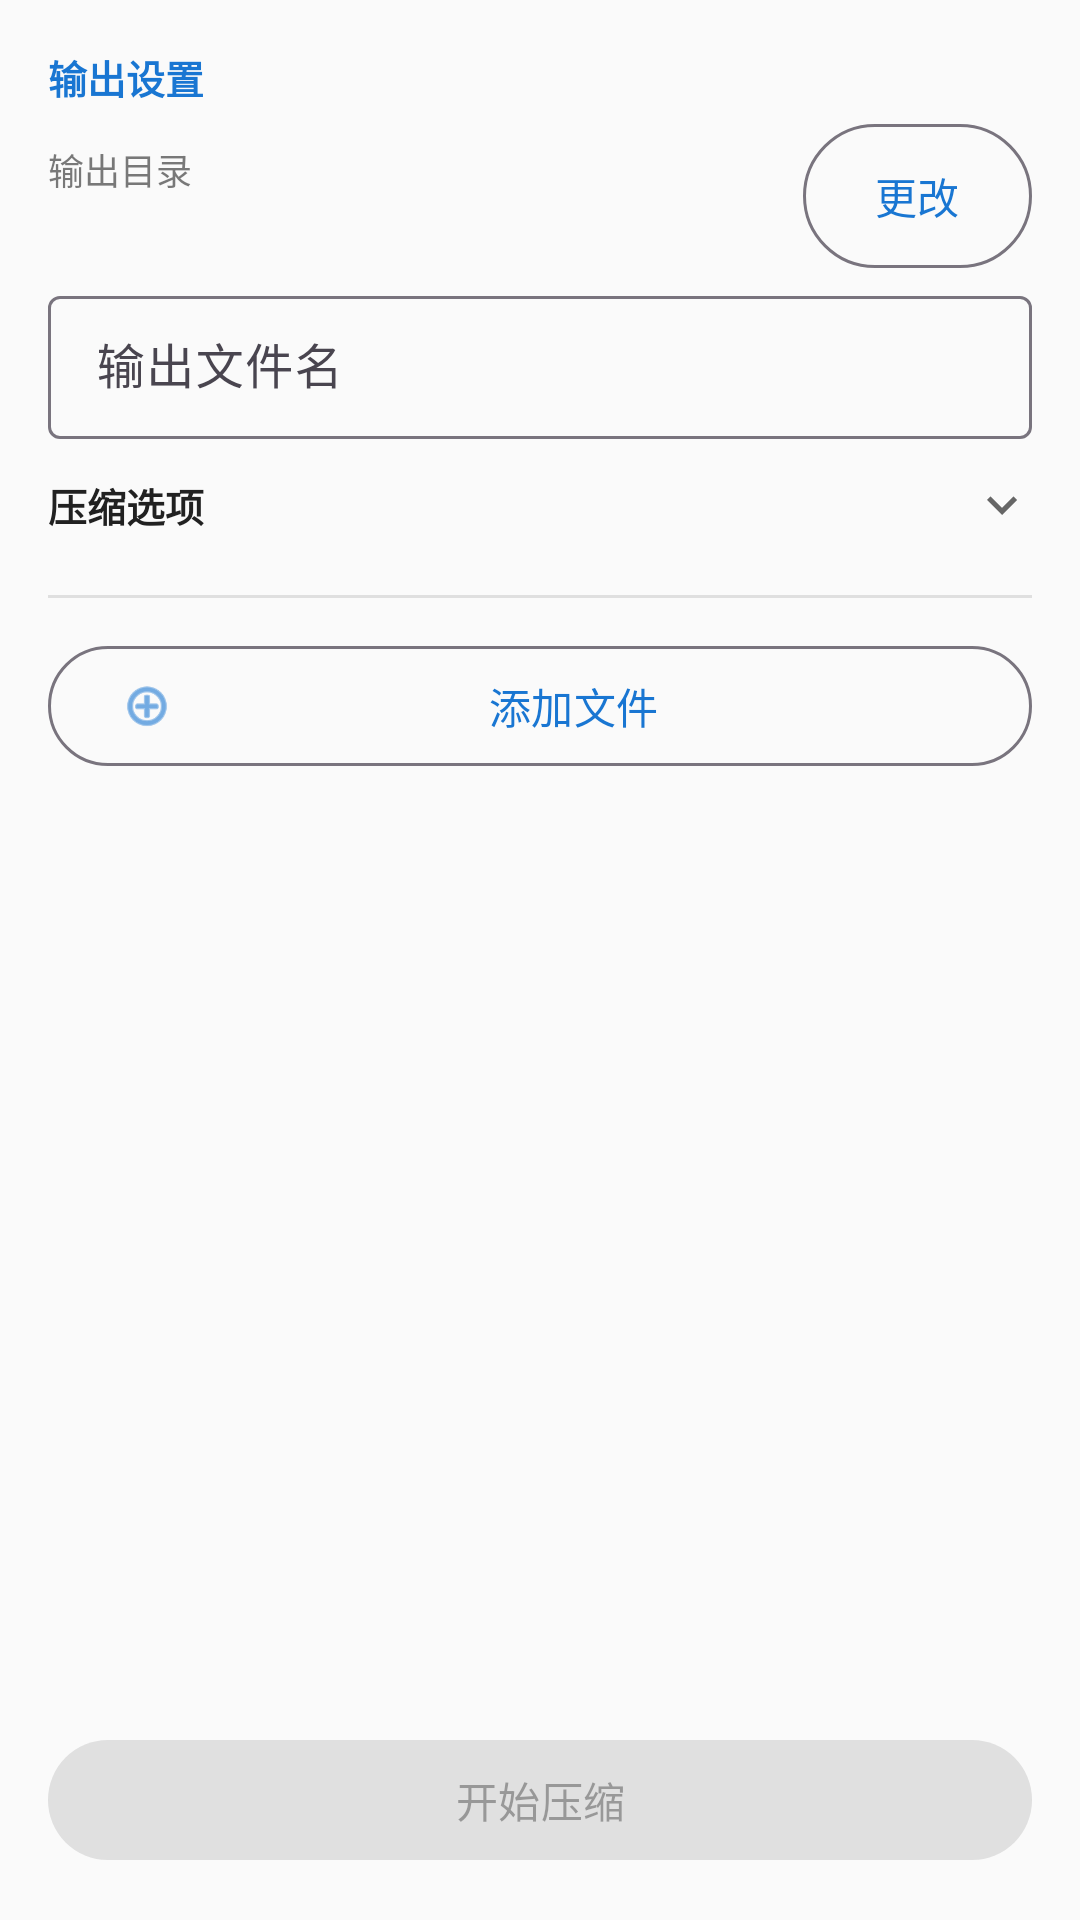

Where icons sit on this 1080 x 1920 app screen, as (x1, y1, x2, y2):
压缩选项: (987, 496, 1017, 515)
